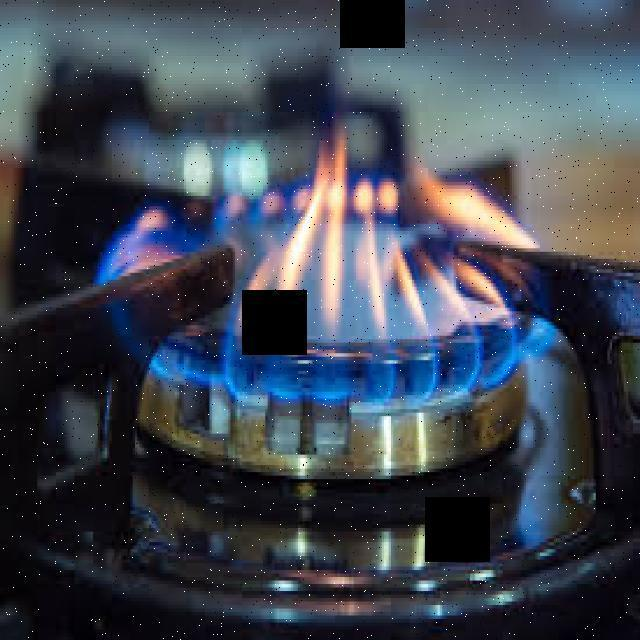Flame: (44, 125, 619, 423)
